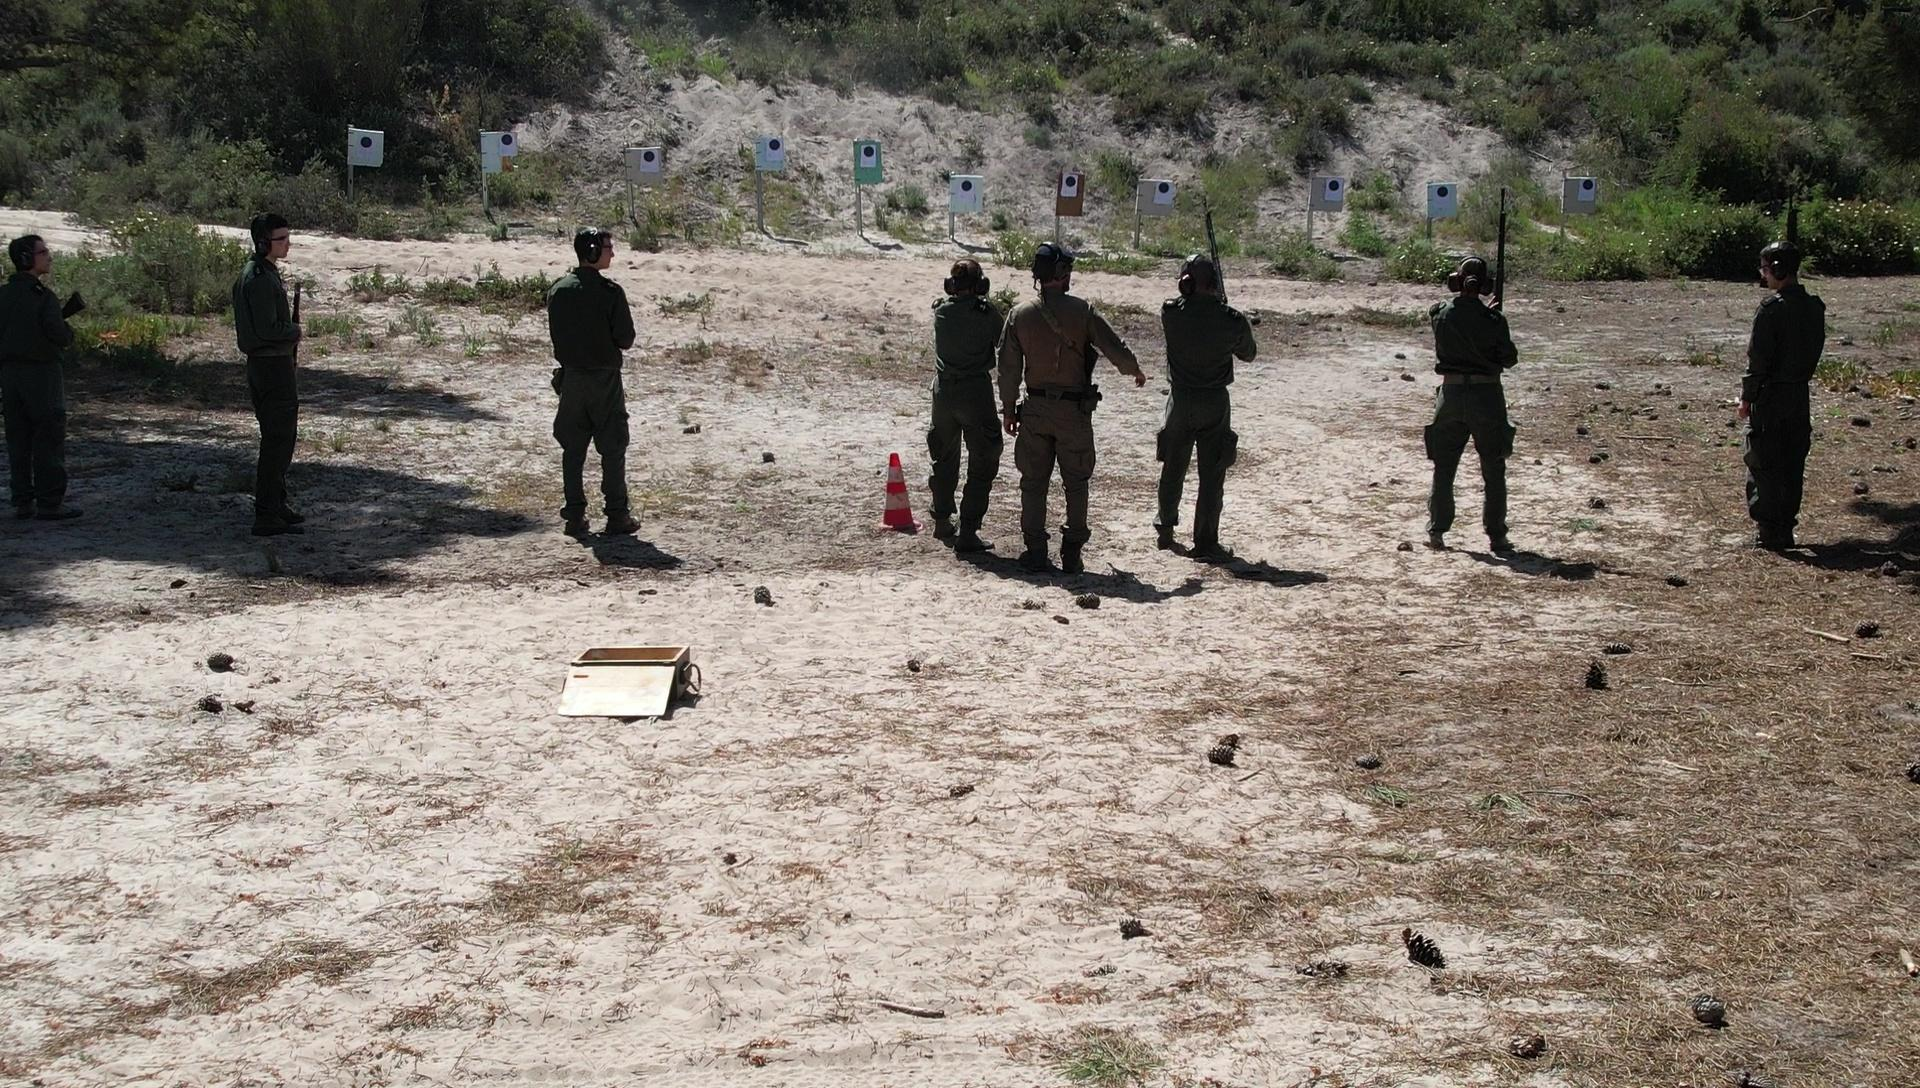Soldier: (520, 218, 679, 555), (1720, 174, 1845, 564), (187, 195, 328, 514), (992, 235, 1109, 564), (916, 244, 1029, 582), (1427, 214, 1524, 568), (0, 226, 95, 513), (1160, 253, 1242, 534)
